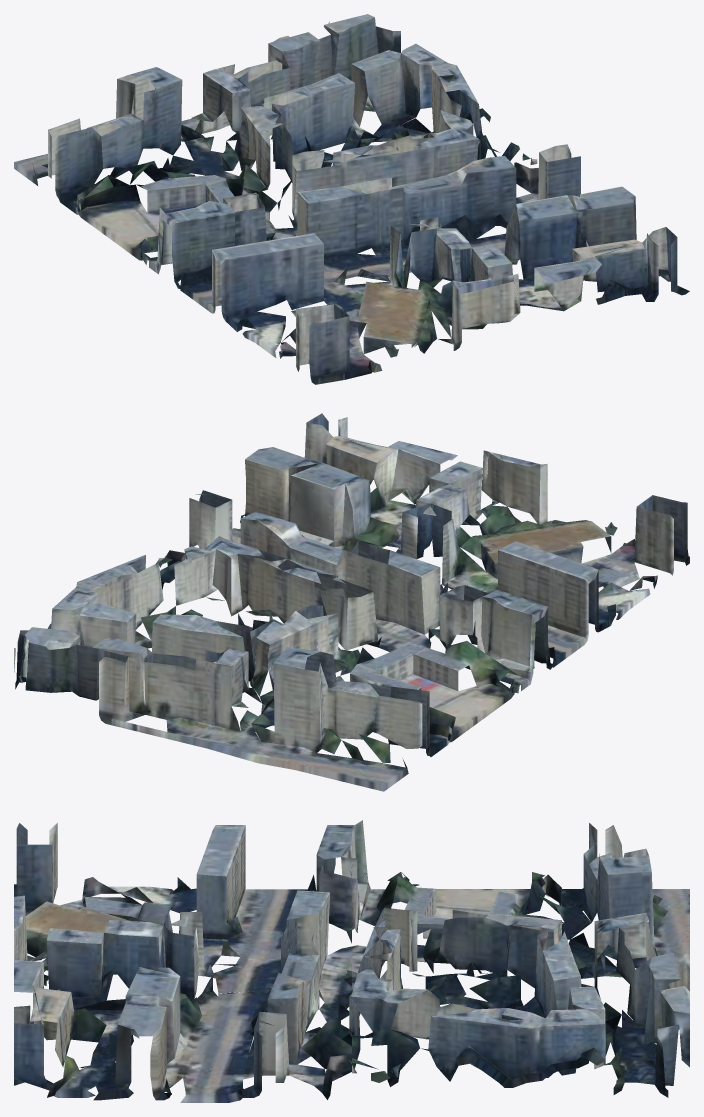
3 views of the same model, one above another, from view 1: azimuth 30°, elevation 25°; view 2: azimuth 150°, elevation 25°; view 3: azimuth 270°, elevation 25° (orthographic). The views are drawn at different scales.
Parts seen in each view (by area): view 1: 30436272704361716_0; view 2: 30436272704361716_0; view 3: 30436272704361716_0.
Part boxes in pixels (box(x1,y1,x2,y2)): 30436272704361716_0: box(14, 14, 689, 384); 30436272704361716_0: box(14, 413, 689, 791); 30436272704361716_0: box(14, 820, 689, 1102).
Size of the model in its own units: 220 by 49.32 by 306.
1 material, 1 textured.
